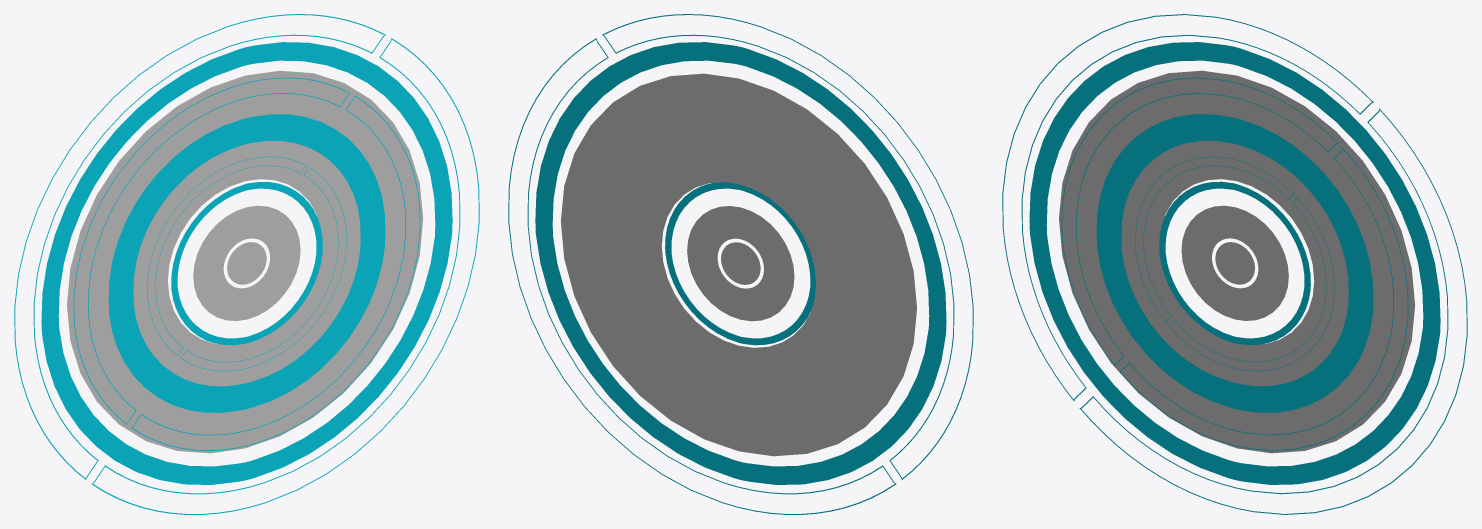
The model's file is target.fbx.
3 views of the same model, side by side, from view 1: azimuth 30°, elevation 25°; view 2: azimuth 150°, elevation 25°; view 3: azimuth 330°, elevation 25° (orthographic).
Parts seen in each view (by area): view 1: Circle.002, Curve.003, Curve.004, Curve.002, Curve.006, Circle.001, Curve.001, Curve.005, Curve.009, Curve.008, Circle.003, Curve.007; view 2: Circle.002, Curve.003, Curve.004, Circle.001, Curve.001, Curve.009, Curve.008, Circle.003; view 3: Circle.002, Curve.003, Curve.004, Curve.002, Curve.006, Circle.001, Curve.001, Curve.005, Curve.009, Curve.008, Circle.003, Curve.007.
Part boxes in pixels (<box>): Circle.002: <box>67,70,423,453</box>; Curve.003: <box>244,42,452,480</box>; Curve.004: <box>41,47,245,484</box>; Curve.002: <box>108,118,248,412</box>; Curve.006: <box>247,114,385,408</box>; Circle.001: <box>193,205,300,320</box>; Curve.001: <box>14,14,479,514</box>; Curve.005: <box>73,77,420,450</box>; Curve.009: <box>246,182,322,343</box>; Curve.008: <box>171,184,246,345</box>; Circle.003: <box>227,242,266,284</box>; Curve.007: <box>147,156,346,371</box>; Circle.002: <box>561,73,916,456</box>; Curve.003: <box>535,42,743,480</box>; Curve.004: <box>742,47,946,484</box>; Circle.001: <box>687,206,794,321</box>; Curve.001: <box>508,14,973,514</box>; Curve.009: <box>665,182,741,343</box>; Curve.008: <box>741,185,815,345</box>; Circle.003: <box>721,242,760,284</box>; Circle.002: <box>1059,70,1414,453</box>; Curve.003: <box>1232,46,1440,484</box>; Curve.004: <box>1029,42,1233,479</box>; Curve.002: <box>1096,114,1236,408</box>; Curve.006: <box>1235,118,1373,412</box>; Circle.001: <box>1181,205,1288,320</box>; Curve.001: <box>1002,14,1467,514</box>; Curve.005: <box>1061,77,1408,450</box>; Curve.009: <box>1234,183,1310,345</box>; Curve.008: <box>1159,181,1234,342</box>; Circle.003: <box>1215,242,1254,284</box>; Curve.007: <box>1135,156,1334,371</box>.
Size of the model in its own units: 2.74 by 372 by 372.
